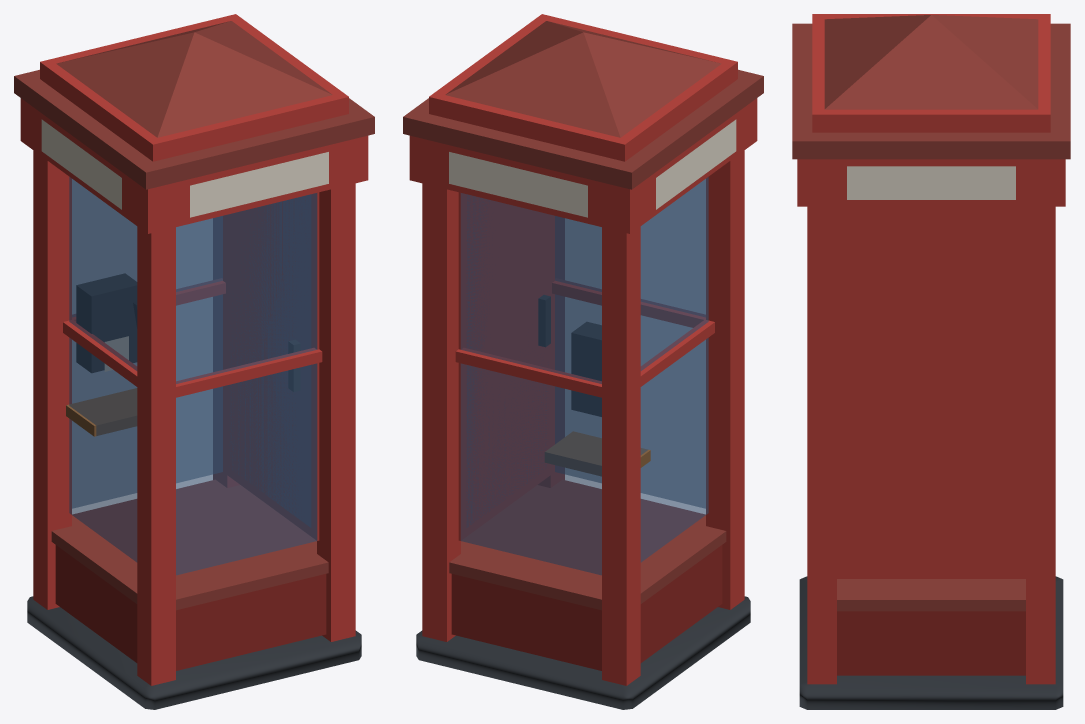
File: phone-booth.glb
The picture shows the model from 3 angles, left to right: view 1: azimuth 30°, elevation 25°; view 2: azimuth 150°, elevation 25°; view 3: azimuth 270°, elevation 25°; orthographic projection. The views are drawn at different scales.
Parts seen in each view (by area): view 1: Merged_prop-body, Merged_city-glass-surface, Merged_prop-accent, Merged_city-metal-dark, Merged_prop-body-deep, Merged_city-poster, Merged_prop-body-surface, Merged_city-timber; view 2: Merged_prop-body, Merged_city-glass-surface, Merged_prop-accent, Merged_prop-body-deep, Merged_city-metal-dark, Merged_city-poster, Merged_prop-body-surface, Merged_city-timber, Merged_city-metal-dark-surface; view 3: Merged_prop-body, Merged_prop-accent, Merged_prop-body-deep, Merged_city-metal-dark, Merged_city-poster.
Boxes of the visible parts, bbox=[...] form: Merged_prop-body: bbox=[20, 14, 368, 685]; Merged_city-glass-surface: bbox=[69, 177, 317, 575]; Merged_prop-accent: bbox=[14, 21, 374, 610]; Merged_city-metal-dark: bbox=[27, 273, 361, 709]; Merged_prop-body-deep: bbox=[55, 545, 326, 670]; Merged_city-poster: bbox=[41, 119, 328, 217]; Merged_prop-body-surface: bbox=[63, 279, 322, 397]; Merged_city-timber: bbox=[66, 388, 136, 436]; Merged_prop-body: bbox=[409, 14, 757, 685]; Merged_city-glass-surface: bbox=[460, 177, 708, 575]; Merged_prop-accent: bbox=[403, 21, 763, 610]; Merged_prop-body-deep: bbox=[451, 545, 722, 670]; Merged_city-metal-dark: bbox=[416, 322, 750, 709]; Merged_city-poster: bbox=[449, 119, 736, 217]; Merged_prop-body-surface: bbox=[455, 279, 714, 397]; Merged_city-timber: bbox=[545, 431, 650, 476]; Merged_city-metal-dark-surface: bbox=[538, 295, 550, 346]; Merged_prop-body: bbox=[797, 14, 1065, 684]; Merged_prop-accent: bbox=[792, 15, 1070, 611]; Merged_prop-body-deep: bbox=[837, 611, 1025, 675]; Merged_city-metal-dark: bbox=[799, 576, 1063, 709]; Merged_city-poster: bbox=[847, 166, 1015, 199].
Size of what is drawn, in the model's own units: 1.12 by 2.84 by 1.12.
